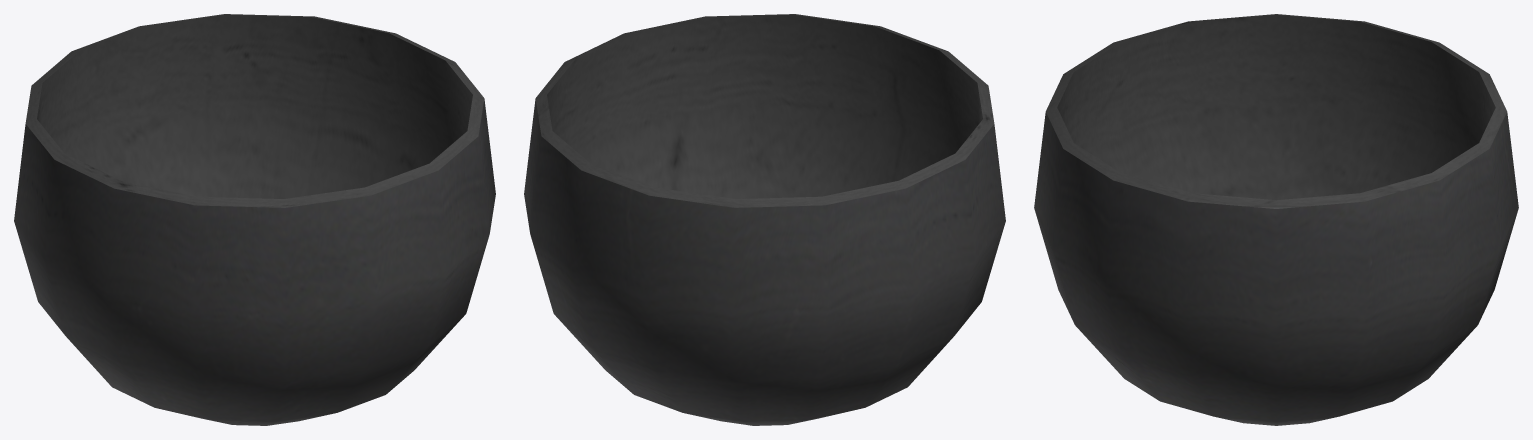
Rendered from bowl-8.FBX.
The picture shows the model from 3 angles, left to right: view 1: azimuth 30°, elevation 25°; view 2: azimuth 150°, elevation 25°; view 3: azimuth 270°, elevation 25°; orthographic projection.
Parts seen in each view (by area): view 1: bowl-8_LOD0; view 2: bowl-8_LOD0; view 3: bowl-8_LOD0.
Boxes of the visible parts, box(x1,y1,x2,y2) form: bowl-8_LOD0: box(14, 14, 495, 425); bowl-8_LOD0: box(524, 14, 1005, 425); bowl-8_LOD0: box(1034, 14, 1518, 425).
Size of what is drawn, in the model's own units: 11.34 by 7.28 by 11.34.
